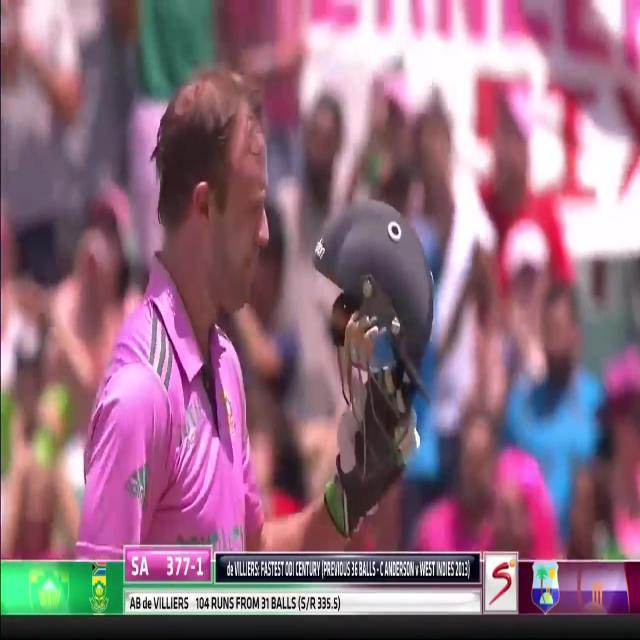Ball: (76, 59, 272, 551)
